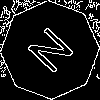N: (25, 25, 84, 83)
